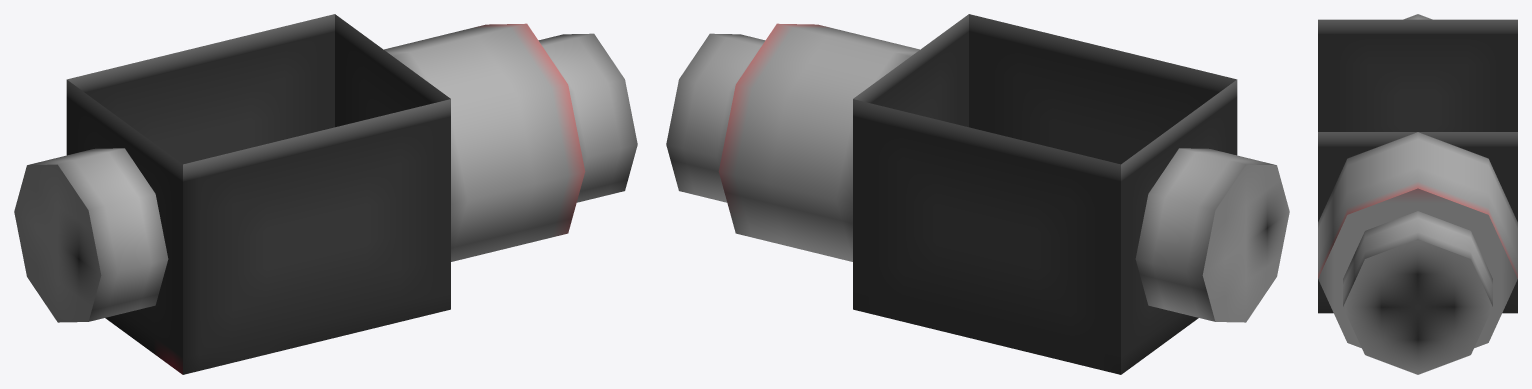
File: dieselgen_engine.obj
3 renders of one model, left to right at view 1: azimuth 30°, elevation 25°; view 2: azimuth 150°, elevation 25°; view 3: azimuth 270°, elevation 25°, orthographic. The views are drawn at different scales.
Parts seen in each view (by area): view 1: Engine; view 2: Engine; view 3: Engine.
Part boxes in pixels (x1,y1,x2,y2): Engine: (14,14,637,374); Engine: (666,14,1289,374); Engine: (1318,14,1517,374).
Bounding box in the file's own units: 1 × 0.375 × 0.375.
